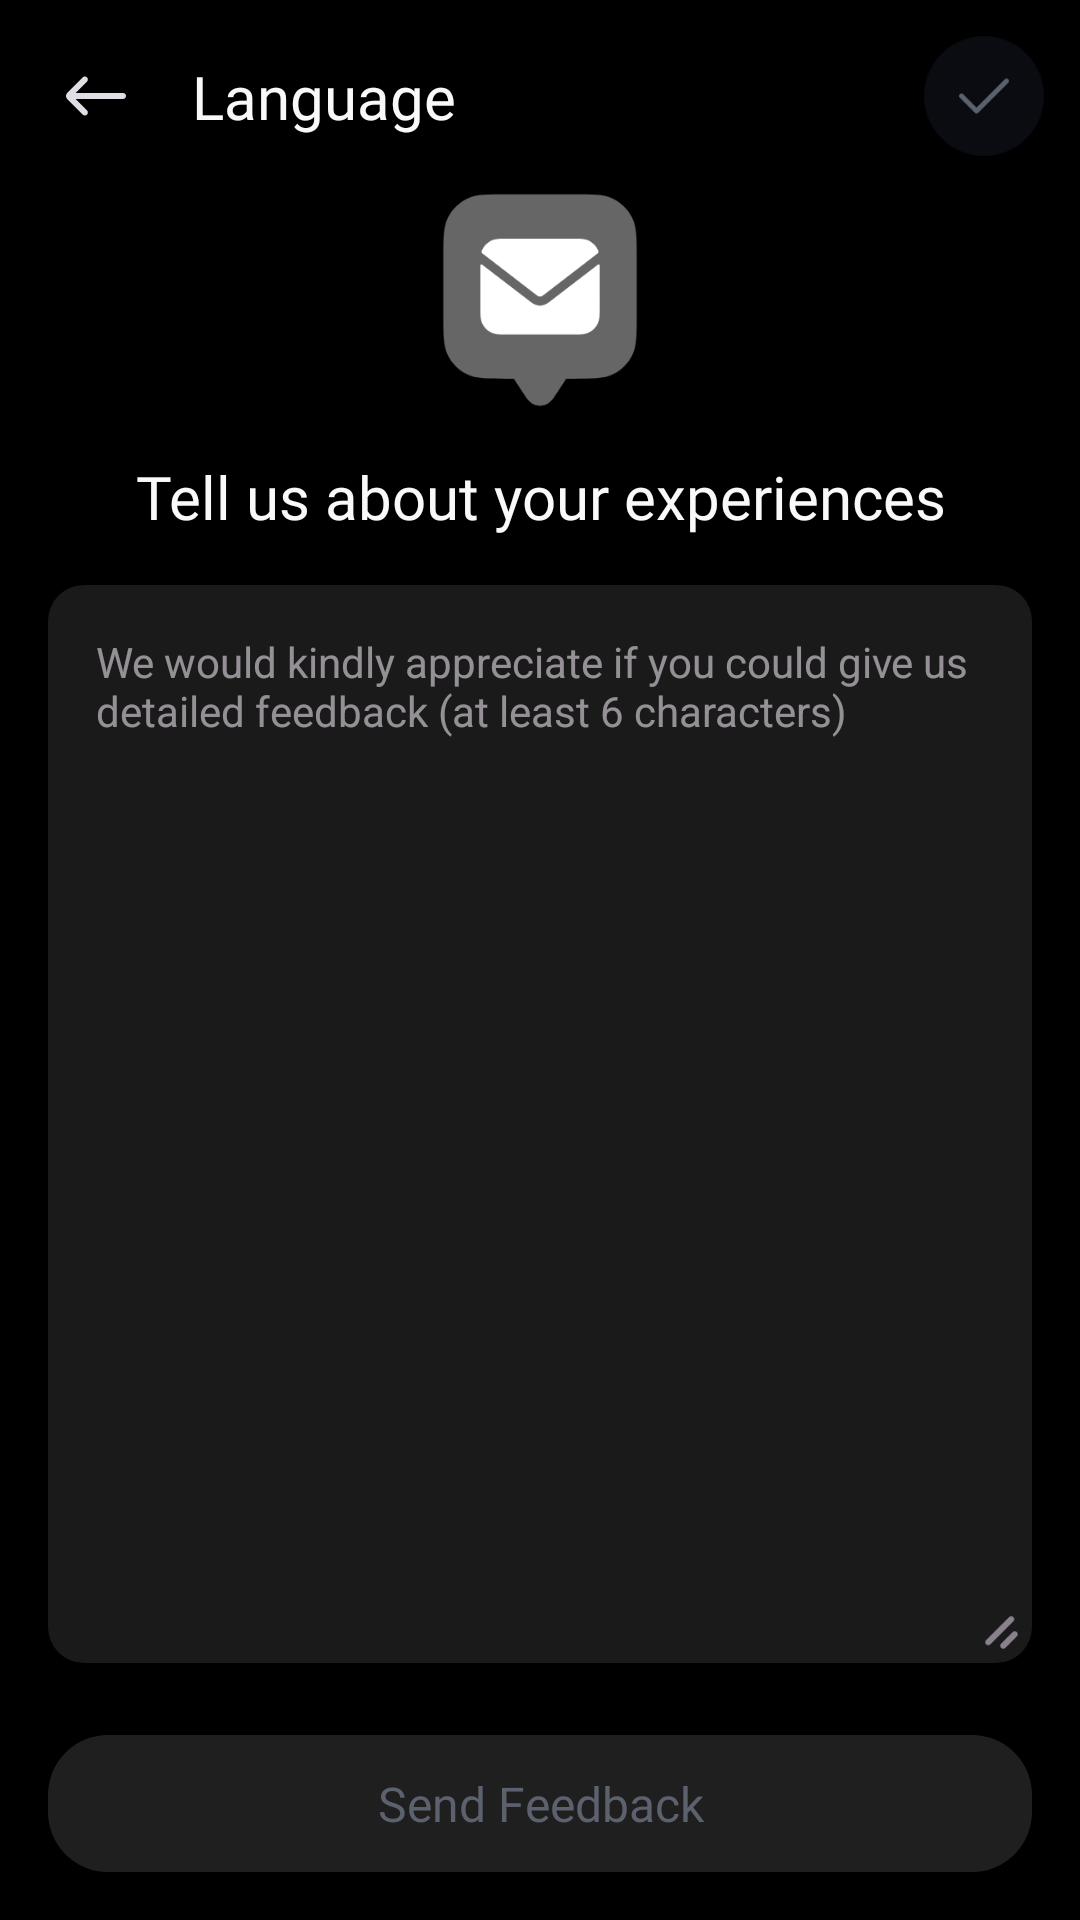

Screen size 1080 x 1920. Icon name, then its center in pixels as (x,y):
ac tick: (984,96)
back: (96,96)
